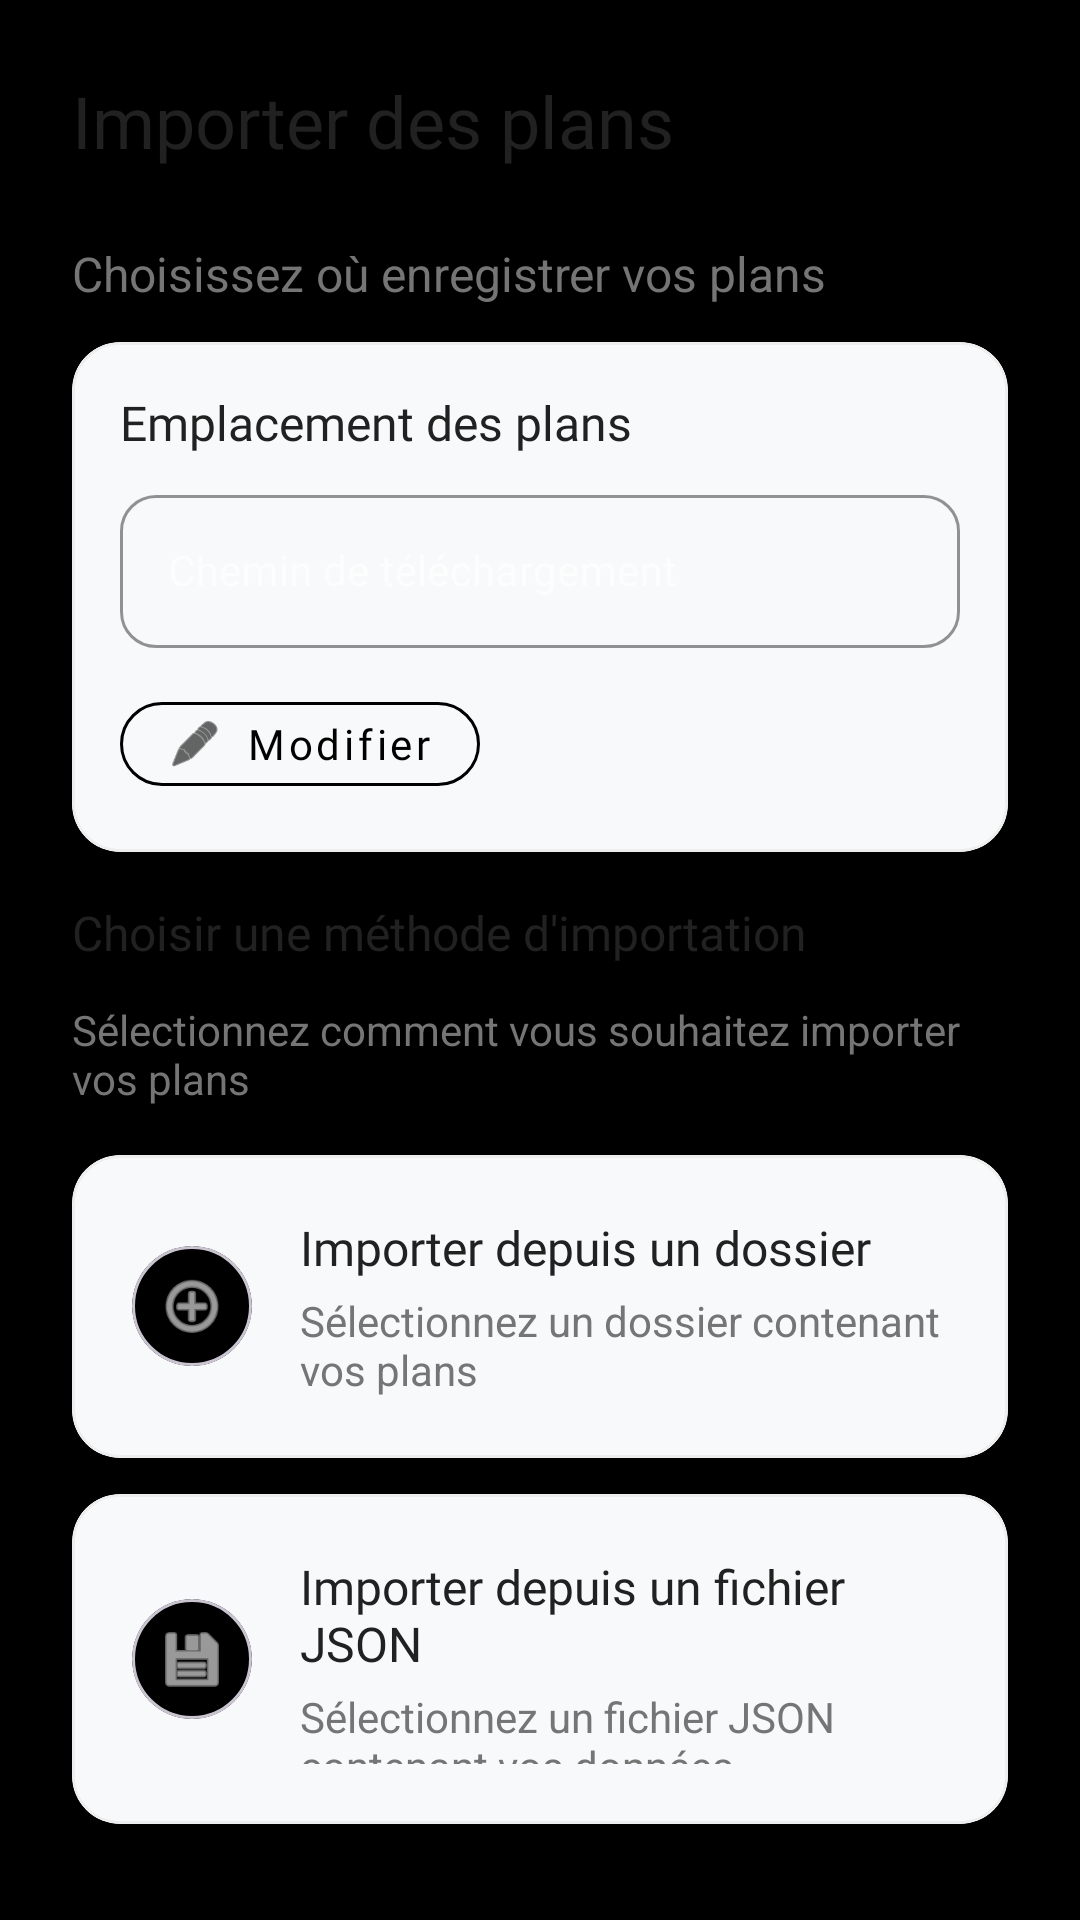

Point at icon controls on the screen. Image size 1080px x 1920px, points as (x=x, y=y).
add: (x=192, y=1306)
save: (x=192, y=1659)
